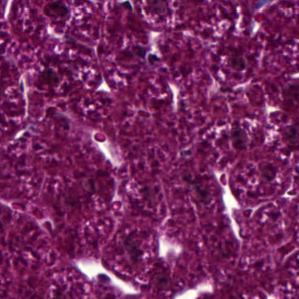inflammation: (130, 41, 167, 67)
